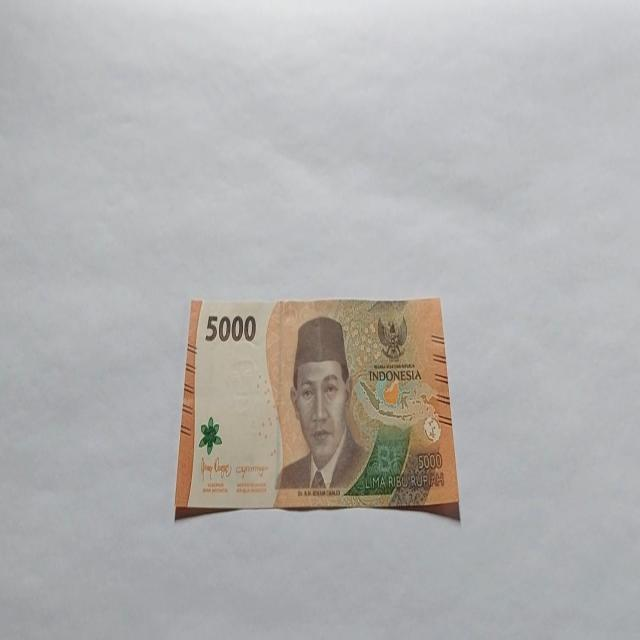lima ribu rupiah: (174, 295, 460, 522), (274, 314, 368, 493)
